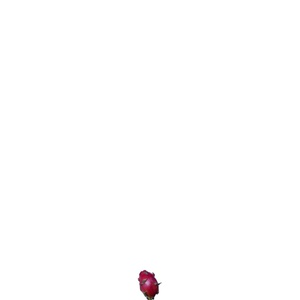pitaia: (137, 268, 160, 300)
